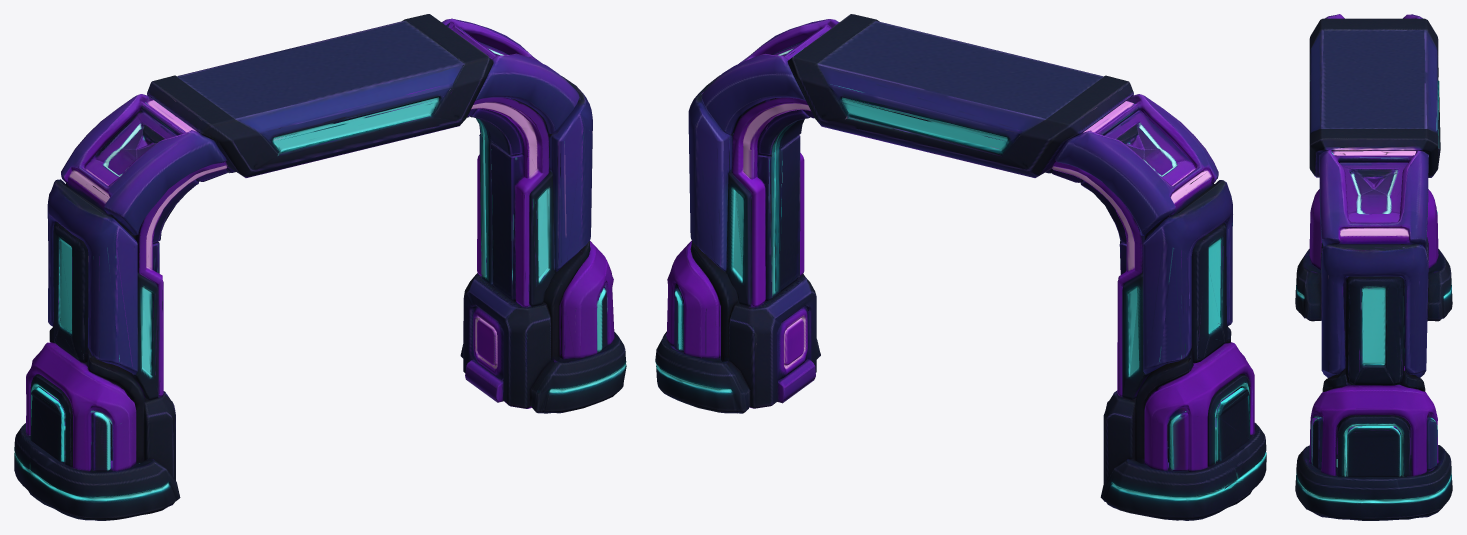
Rendered from game-portal.glb.
The picture shows the model from 3 angles, left to right: view 1: azimuth 30°, elevation 25°; view 2: azimuth 150°, elevation 25°; view 3: azimuth 270°, elevation 25°; orthographic projection. The views are drawn at different scales.
Bounding box in the file's own units: 0.9565 × 0.5811 × 0.2573.
Materials: 1 (1 with a texture image).
